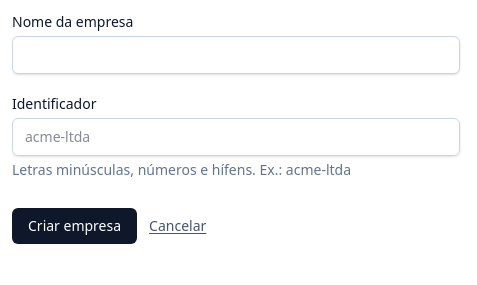
Scenario: EmpresaForm — a validação no cliente › identificador fora do padrão diz o formato e NÃO despacha a Action
Type "ACME" into the field labelled "Nome da empresa" at {"x": 236, "y": 55}, box [12,36,460,74]
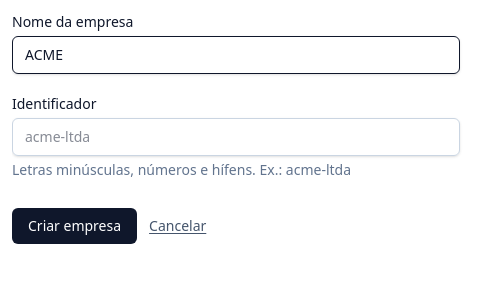
Type "ACME LTDA" into the field labelled "Identificador" at {"x": 236, "y": 137}, box [12,118,460,156]
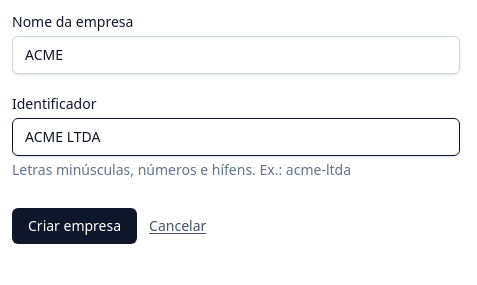
Click the button "Criar empresa" at {"x": 75, "y": 226}, box [12,208,137,244]
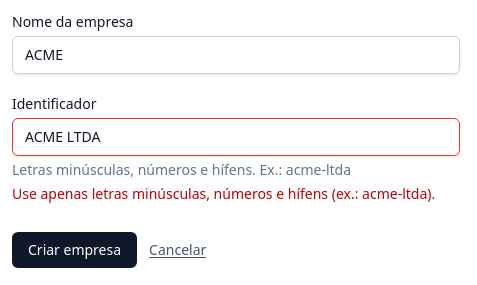
Expected: the text "Use apenas letras minúsculas, números e hífens (ex.: acme-ltda)." is shown, [12,184,460,204]
